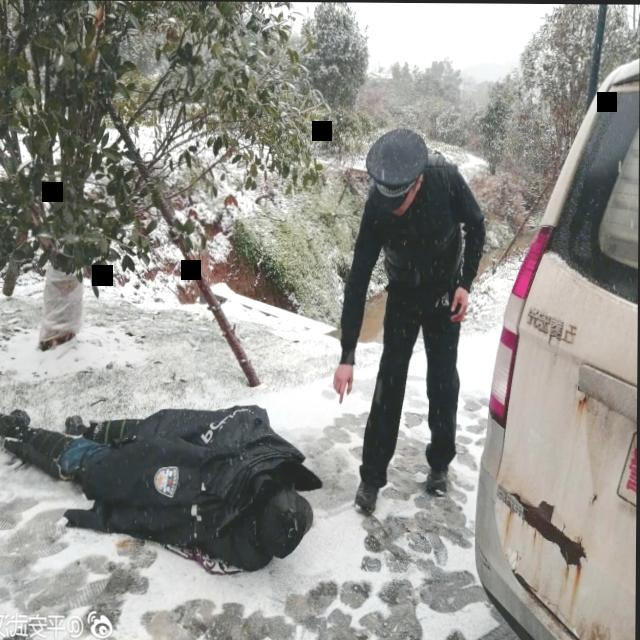Fall-Detected: (0, 378, 333, 586)
